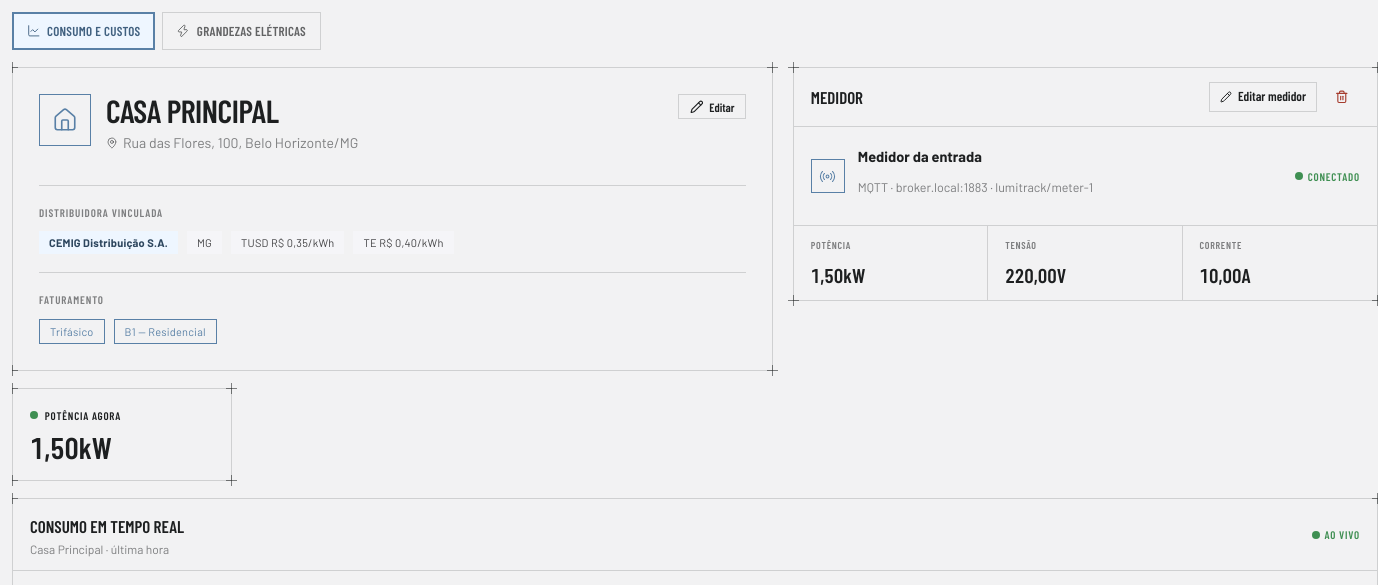
Test: PropertyDetailsPage — aba Grandezas Elétricas › com medidor e leitura SSE, a aba Grandezas Elétricas mostra os cards
The width and height of the screenshot is (1378, 585).
Expected: the heading "Casa Principal" is shown, [106,91,278,129]
What coordinates should you click on to do the following:
click the tab "Grandezas Elétricas"
I would click on:
 (241, 31)
Its box is [162,12,320,50].
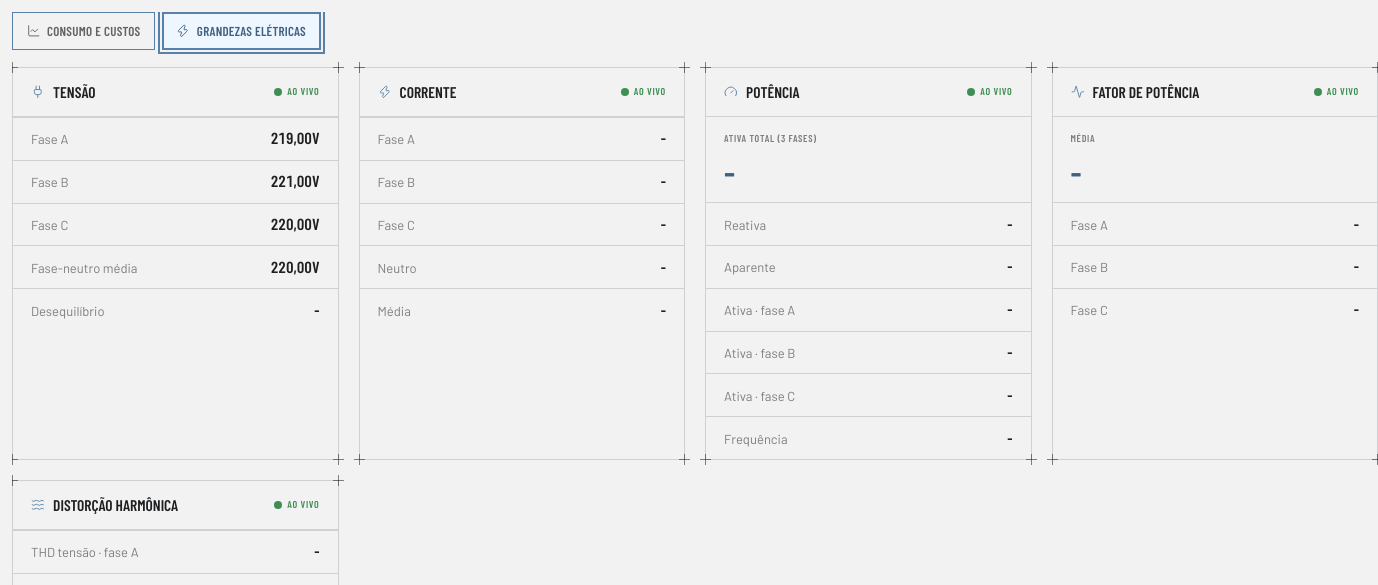
Now the element with test id "electrical-quantity-card-voltage" is shown, box [12,67,338,460]
